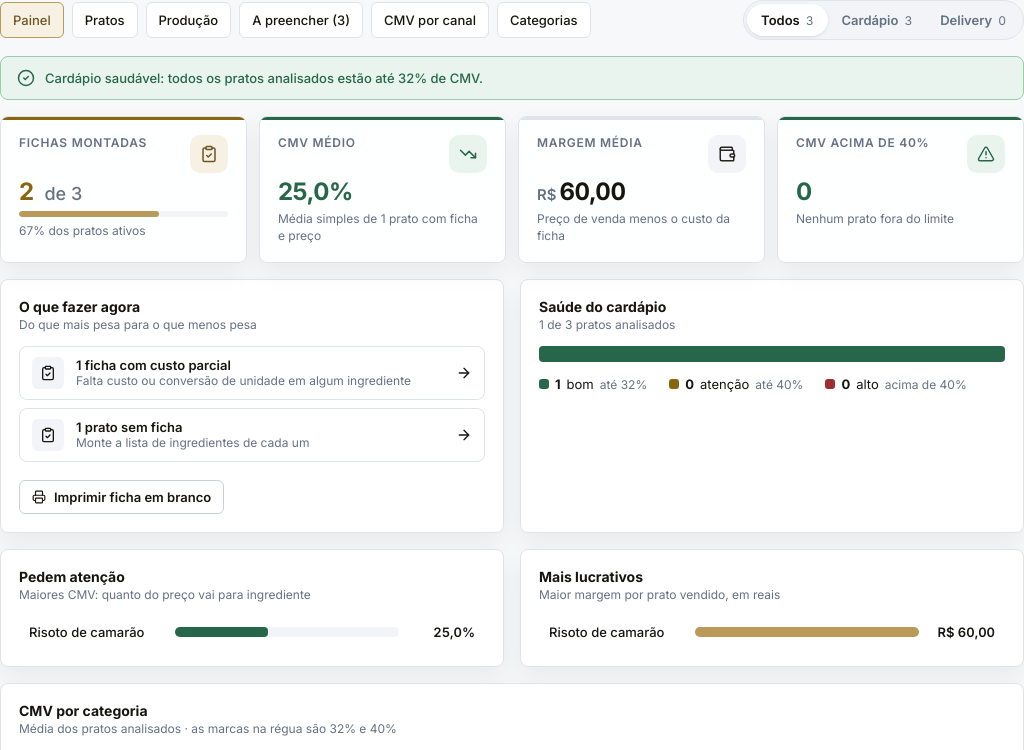
Scenario: painel › diz o que fazer agora e leva à lista já filtrada
The image size is (1024, 750).
Check: the text "Fichas montadas" is shown, box [19,135,147,150]
Step 1. Click the button "1 ficha com custo parcial" → point(252, 373), box [19,346,485,400]
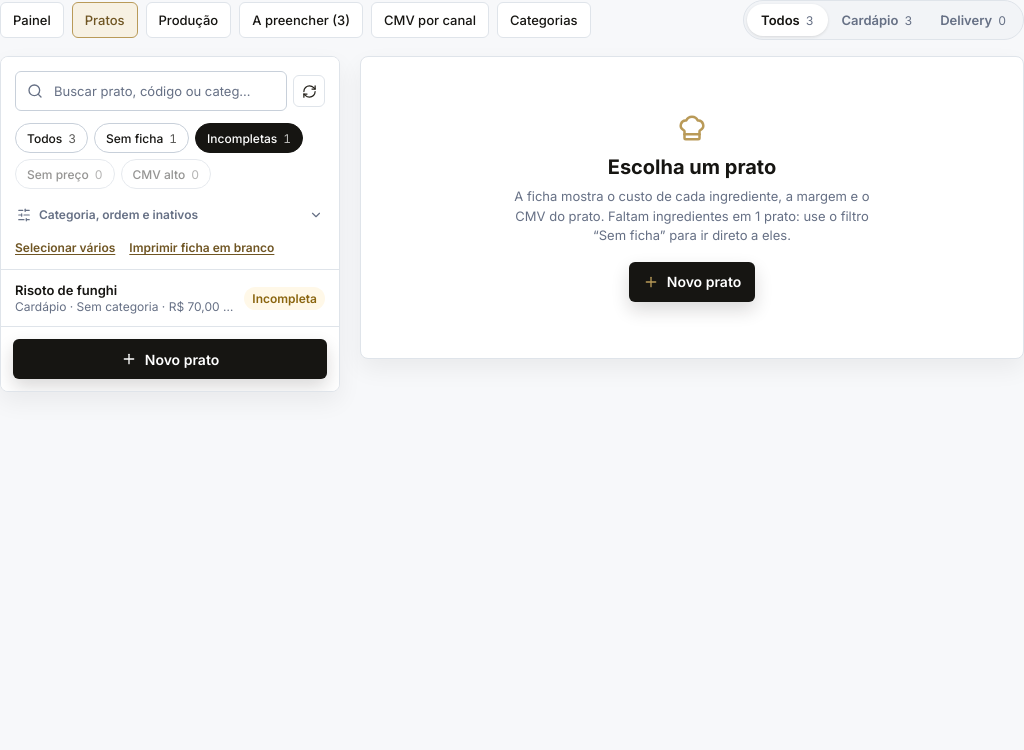
Check: the tab "Pratos" is shown, box [72,2,138,38]
Check: the text "Risoto de funghi" is shown, box [15,282,117,298]
Check: the button "Risoto de camarão" is gone
